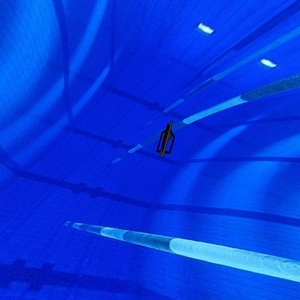submarine: (156, 117, 179, 163)
